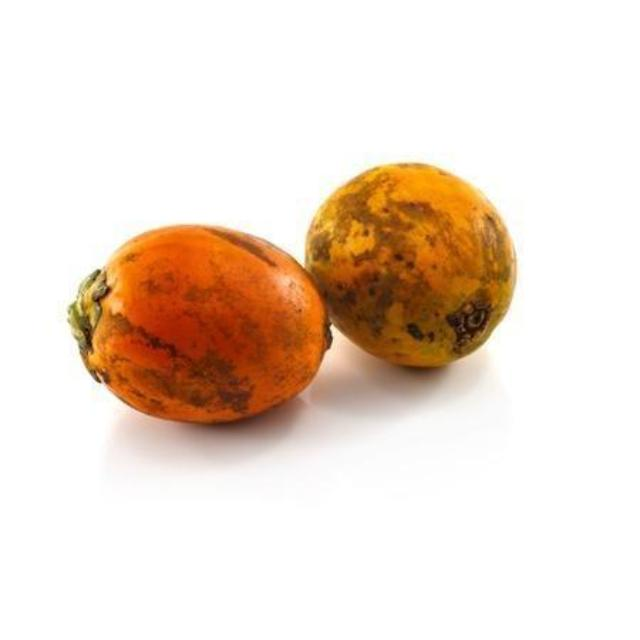good: (67, 225, 331, 427), (303, 164, 518, 370)
